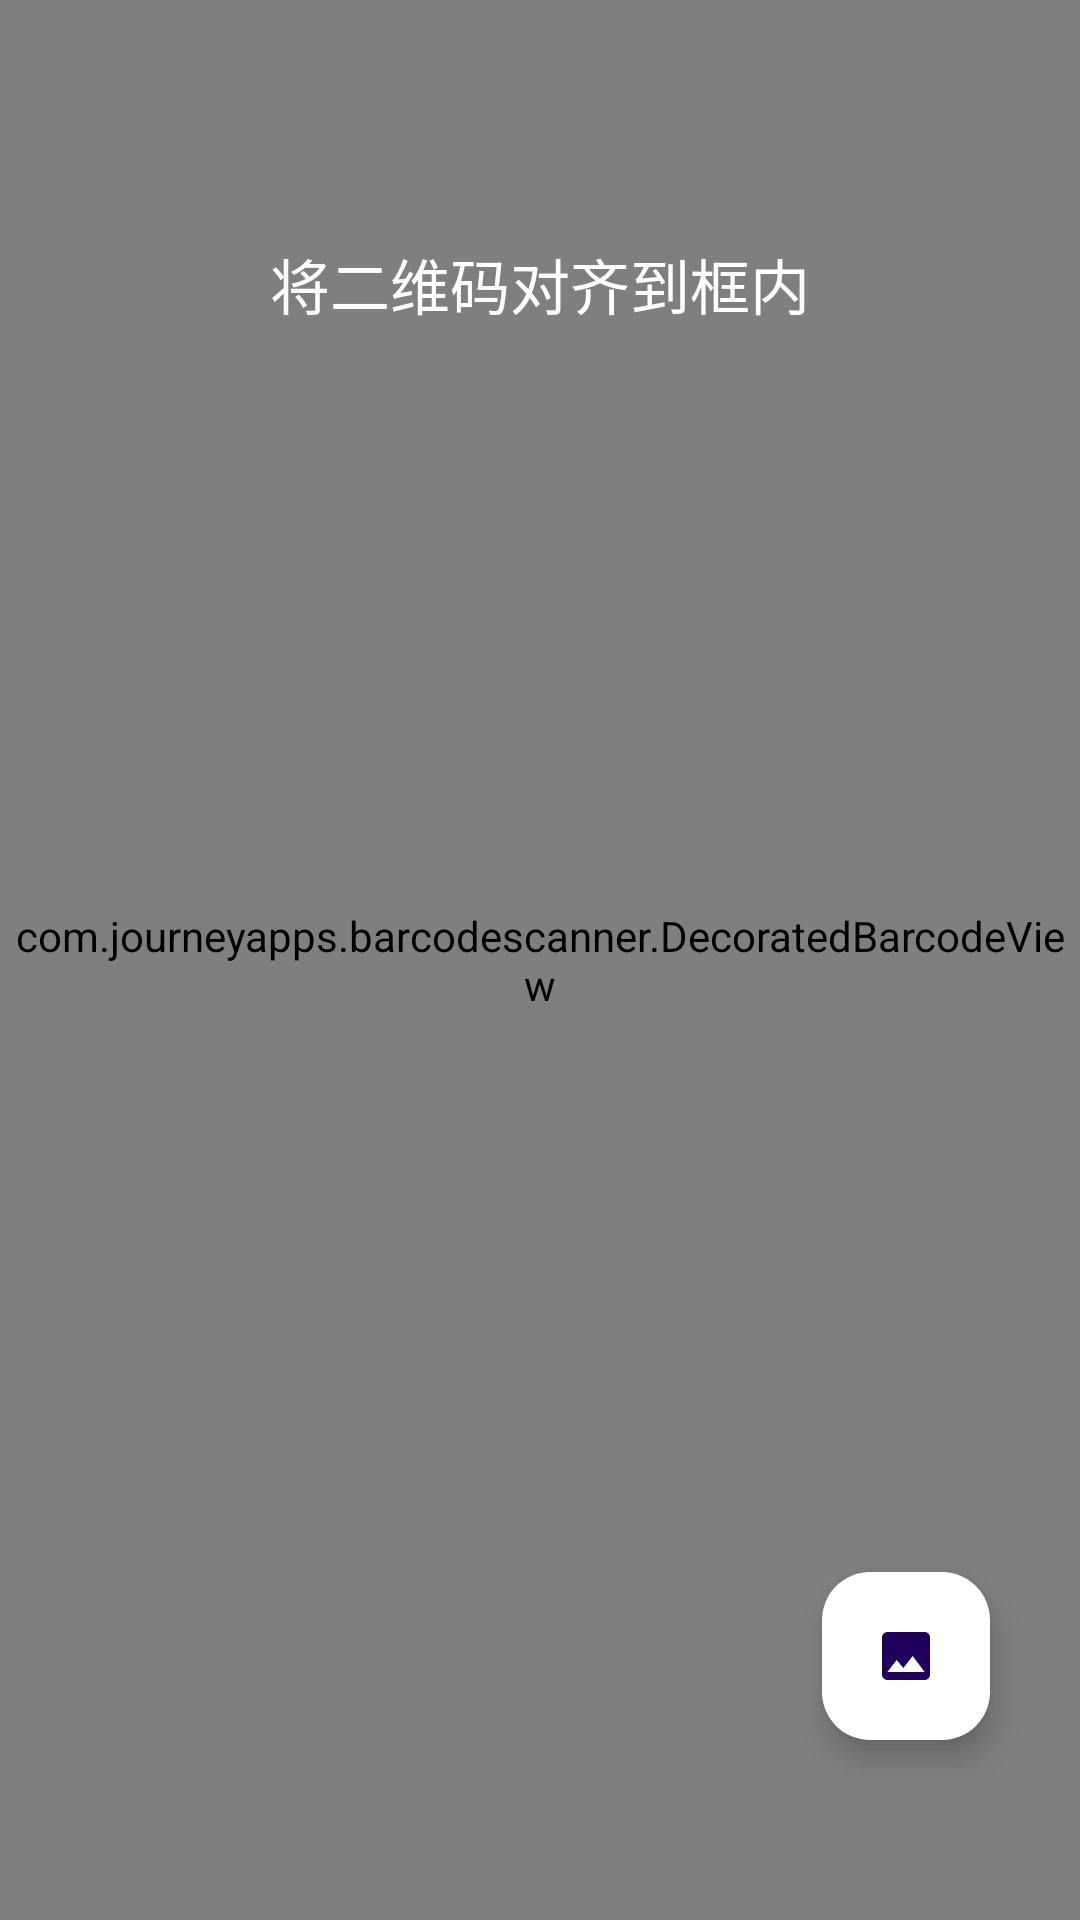

Named icons in this screenshot (1080×1920) and their bounding boxes, [x1=x1, y1=y1, x2=x2, y2=y2]:
album: [x1=822, y1=1572, x2=990, y2=1740]
